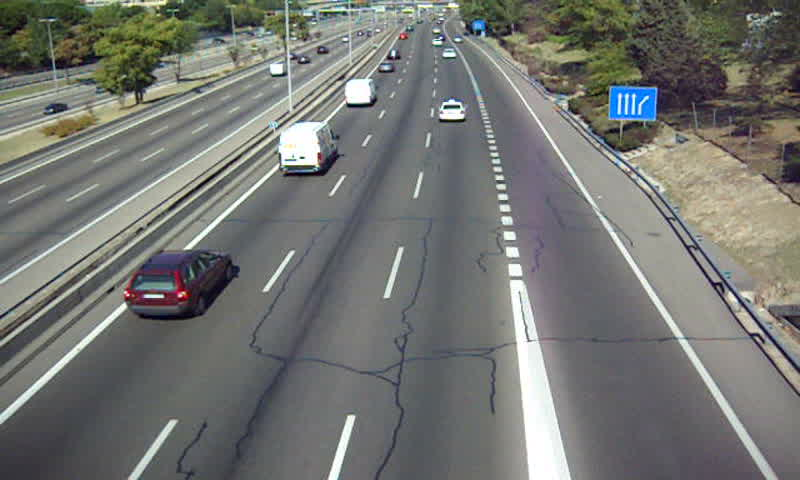car: (122, 250, 232, 319), (438, 101, 465, 123), (441, 48, 458, 60), (378, 62, 395, 74), (387, 48, 401, 61)
van: (279, 122, 340, 176), (343, 79, 376, 104)
